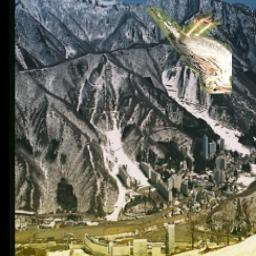Sparrow: (146, 6, 233, 94)
